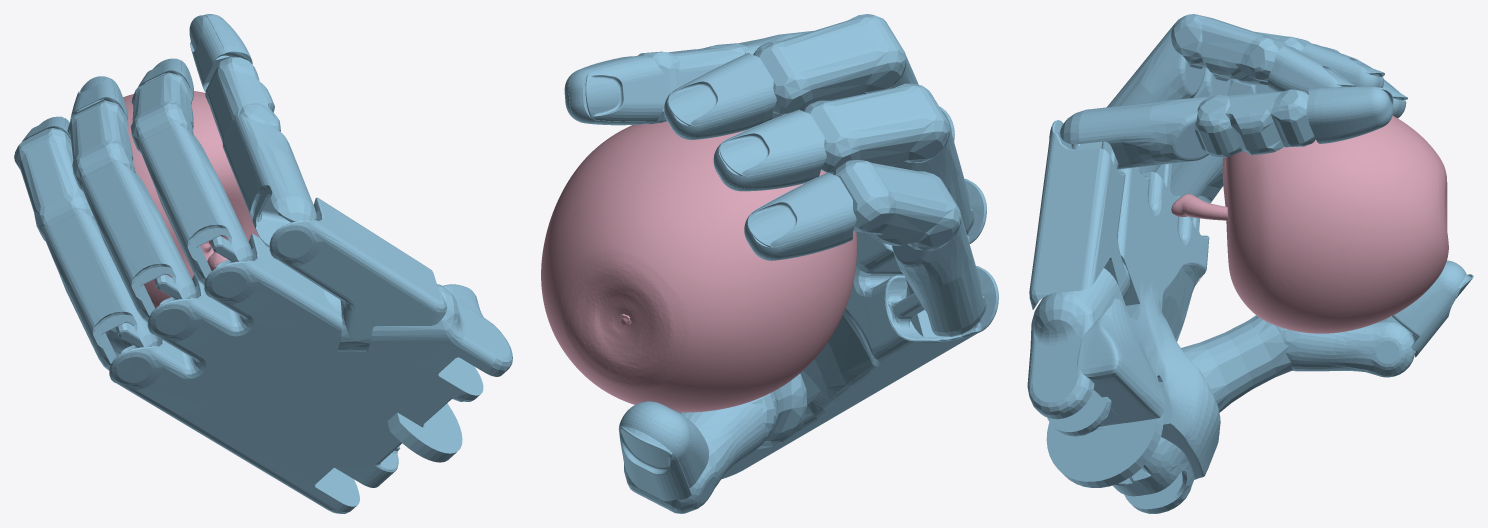
The picture shows the model from 3 angles, left to right: view 1: azimuth 30°, elevation 25°; view 2: azimuth 150°, elevation 25°; view 3: azimuth 270°, elevation 25°; orthographic projection. The views are drawn at different scales.
Parts seen in each view (by area): view 1: world; view 2: world; view 3: world.
Boxes of the visible parts, x1,y1,x2,y2 form: world: [14, 14, 512, 513]; world: [541, 14, 998, 513]; world: [1027, 14, 1473, 513].
Bounding box in the file's own units: 0.1374 × 0.1483 × 0.1419.
